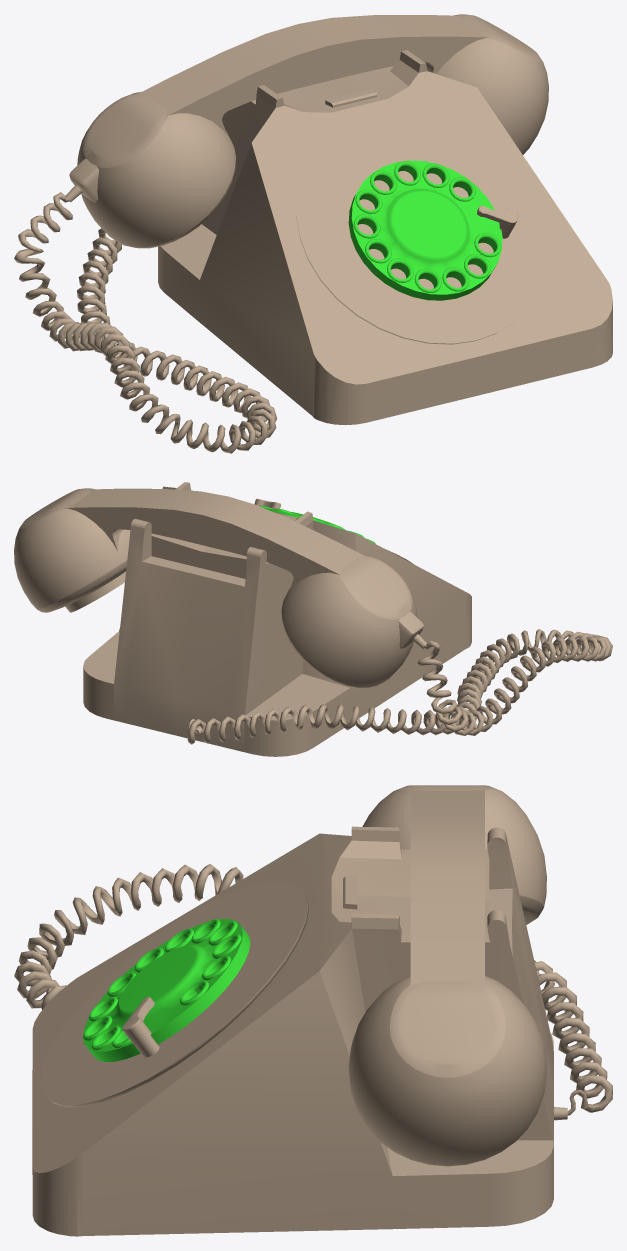
File: oldPhone.fbx
3 renders of one model, top to bottom at view 1: azimuth 30°, elevation 25°; view 2: azimuth 150°, elevation 25°; view 3: azimuth 270°, elevation 25°, orthographic. The views are drawn at different scales.
Parts seen in each view (by area): view 1: polySurface78; view 2: polySurface78; view 3: polySurface78.
Part boxes in pixels (x1,y1,x2,y2): polySurface78: (14,14,612,453); polySurface78: (14,482,612,756); polySurface78: (14,785,612,1236).
Bounding box in the file's own units: 233 × 97.2 × 177.
